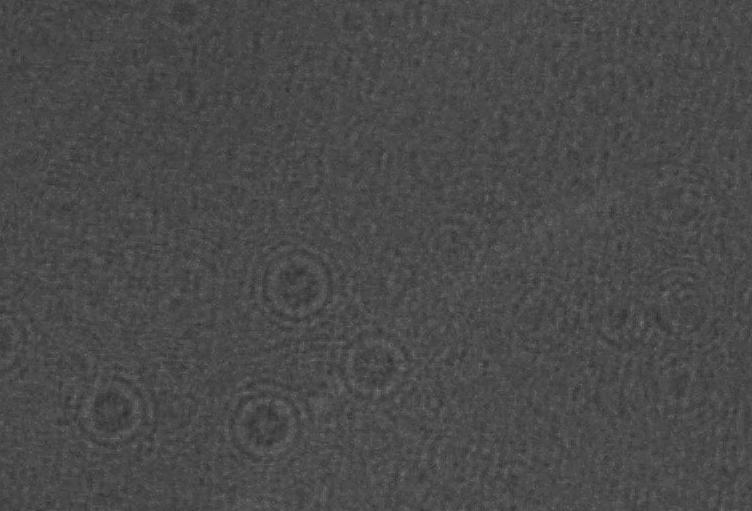bead: (243, 231, 352, 333), (210, 377, 314, 470), (64, 368, 159, 454), (336, 326, 419, 414), (0, 299, 40, 384)
